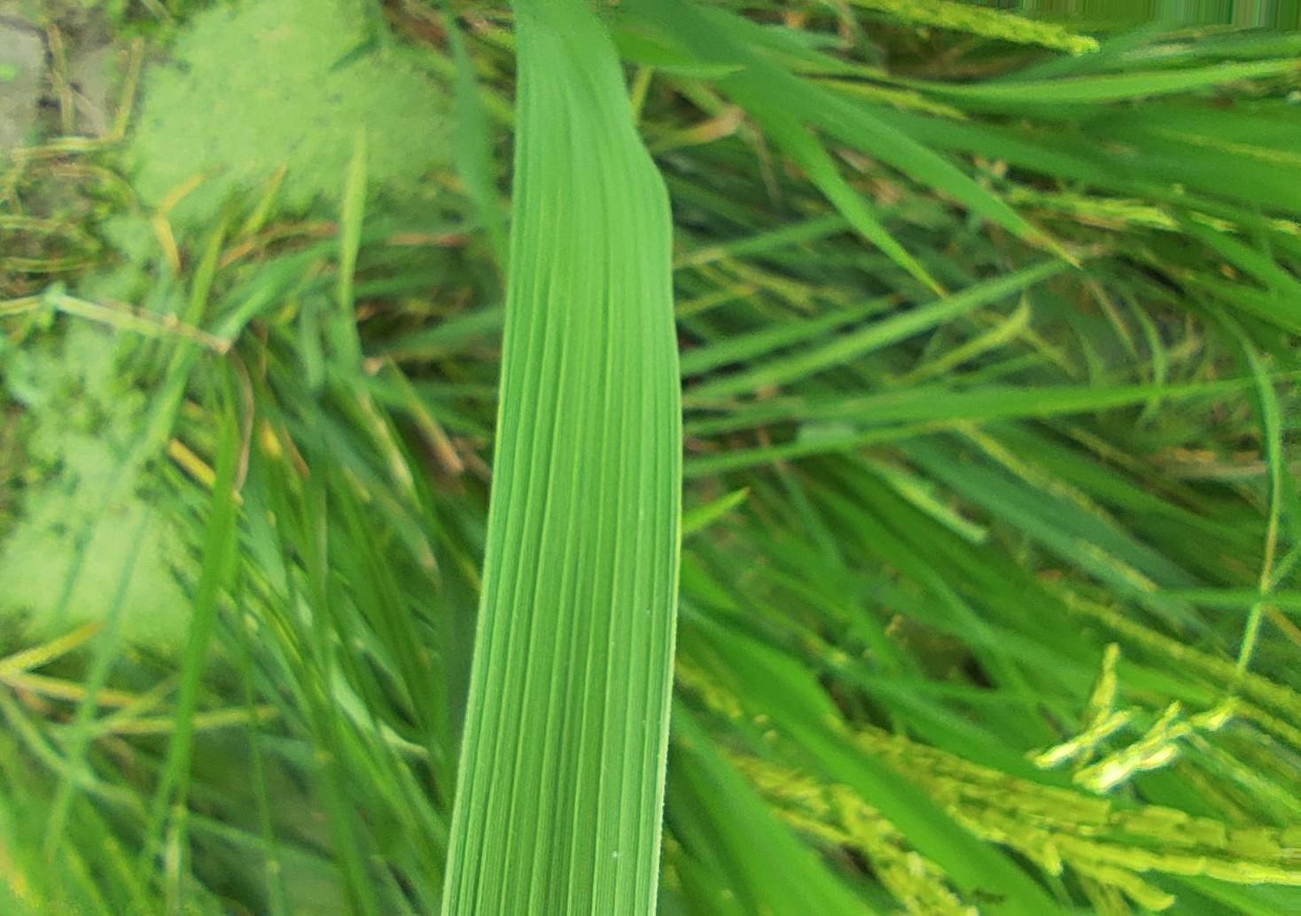Healthy: (440, 0, 682, 915)
